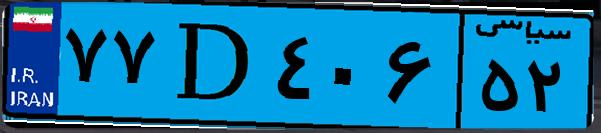0: (330, 28, 385, 110)
2: (525, 38, 570, 115)
4: (270, 28, 330, 110)
5: (475, 38, 525, 113)
6: (385, 28, 445, 110)
7: (57, 26, 110, 100), (110, 28, 158, 98)
D: (158, 12, 270, 120)
